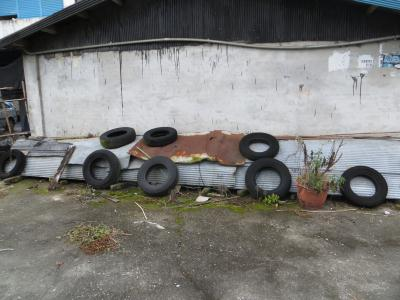tire: (337, 163, 389, 211), (243, 157, 292, 202), (136, 154, 180, 198), (81, 147, 121, 191), (237, 131, 281, 160), (95, 126, 138, 150), (1, 147, 28, 180), (141, 125, 179, 147)
